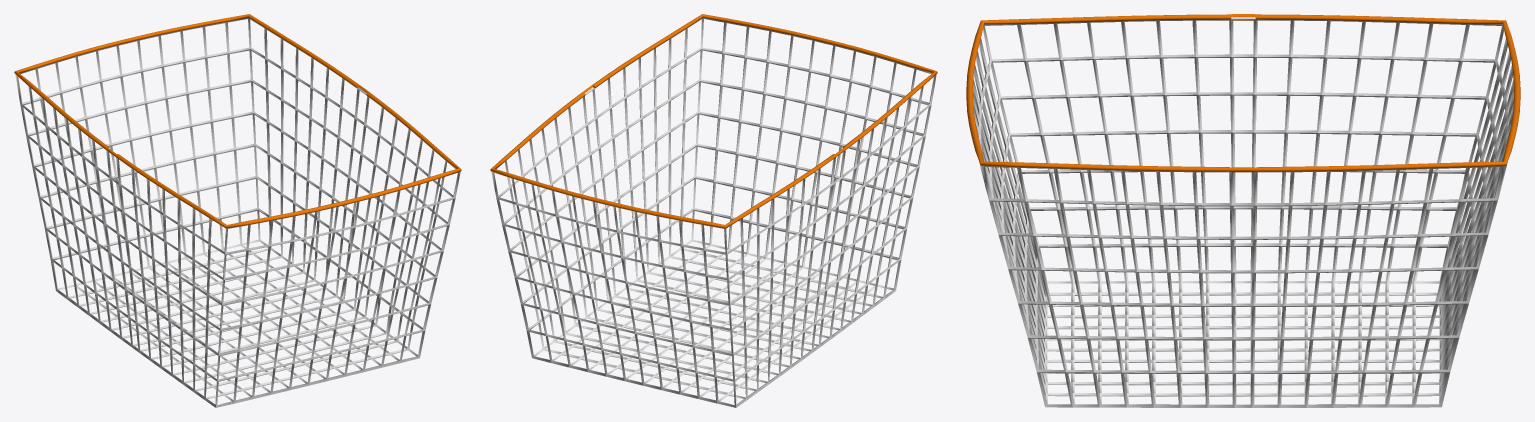
Rendered from KorgNoHandle.fbx.
3 views of the same model, side by side, from view 1: azimuth 30°, elevation 25°; view 2: azimuth 150°, elevation 25°; view 3: azimuth 270°, elevation 25° (orthographic). The views are drawn at different scales.
Visible parts, largest first — view 1: KorgNoHandle; view 2: KorgNoHandle; view 3: KorgNoHandle.
Boxes of the visible parts, bbox=[...] form: KorgNoHandle: bbox=[14, 14, 461, 407]; KorgNoHandle: bbox=[490, 14, 937, 407]; KorgNoHandle: bbox=[966, 14, 1520, 407].
Bounding box in the file's own units: 208 × 160 × 314.
